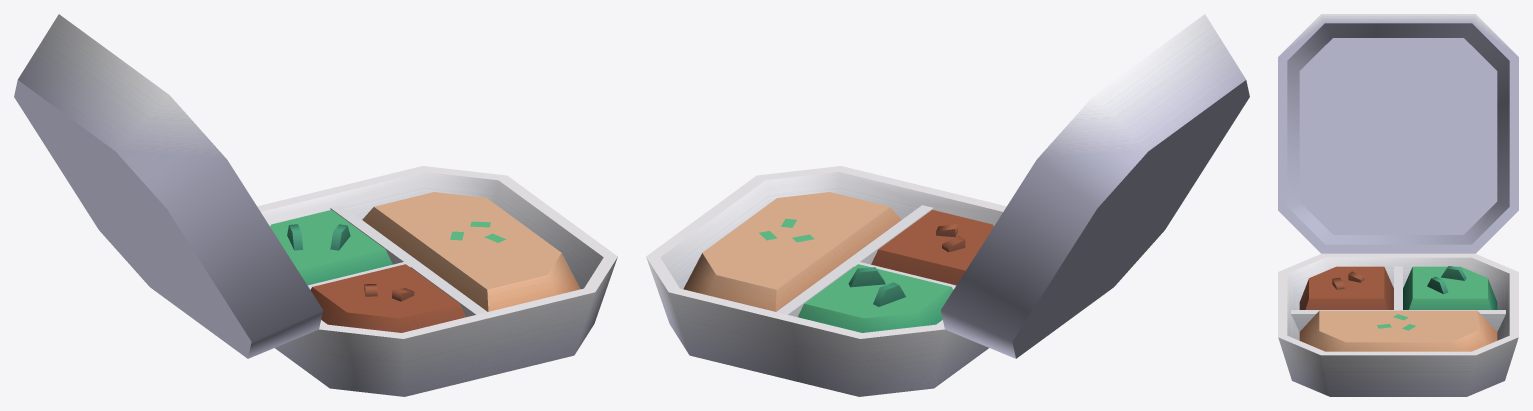
The model's file is styrofoam-dinner.glb.
The picture shows the model from 3 angles, left to right: view 1: azimuth 30°, elevation 25°; view 2: azimuth 150°, elevation 25°; view 3: azimuth 270°, elevation 25°; orthographic projection. The views are drawn at different scales.
Parts seen in each view (by area): view 1: lid, styrofoam-dinner, Group (×3); view 2: lid, styrofoam-dinner, Group (×3); view 3: lid, styrofoam-dinner, Group (×3).
Part boxes in pixels (x1=…): lid: x1=14, y1=14, x2=322, y2=358; styrofoam-dinner: x1=257, y1=166, x2=617, y2=396; Group (×3): x1=270, y1=192, x2=580, y2=332; lid: x1=941, y1=14, x2=1249, y2=358; styrofoam-dinner: x1=646, y1=166, x2=1006, y2=396; Group (×3): x1=683, y1=192, x2=993, y2=332; lid: x1=1278, y1=14, x2=1518, y2=253; styrofoam-dinner: x1=1278, y1=253, x2=1518, y2=396; Group (×3): x1=1299, y1=266, x2=1497, y2=351.
Bounding box in the file's own units: 1.26 × 0.822 × 0.7589.
Materials: 1 (1 with a texture image).
